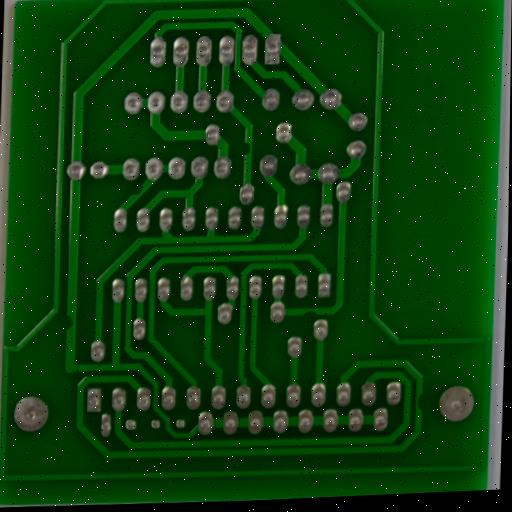mouse_bite: (298, 304, 320, 321), (239, 139, 255, 159), (63, 312, 79, 332), (413, 390, 426, 414), (128, 183, 147, 198)
